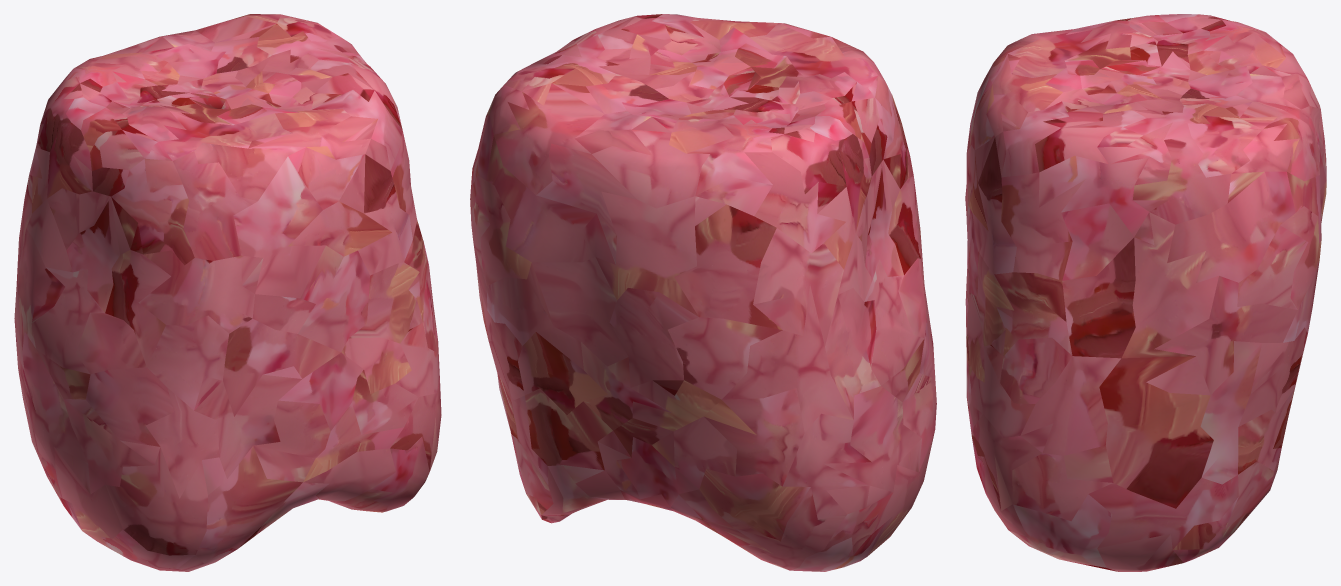
File: BackTooth.fbx
3 views of the same model, side by side, from view 1: azimuth 30°, elevation 25°; view 2: azimuth 150°, elevation 25°; view 3: azimuth 270°, elevation 25° (orthographic). The views are drawn at different scales.
Parts seen in each view (by area): view 1: Mesh_0; view 2: Mesh_0; view 3: Mesh_0.
Boxes of the visible parts, x1,y1,x2,y2 form: Mesh_0: (14,14,441,571); Mesh_0: (470,14,936,571); Mesh_0: (965,14,1326,571).
Bounding box in the file's own units: 1.63 × 1.91 × 1.41.
